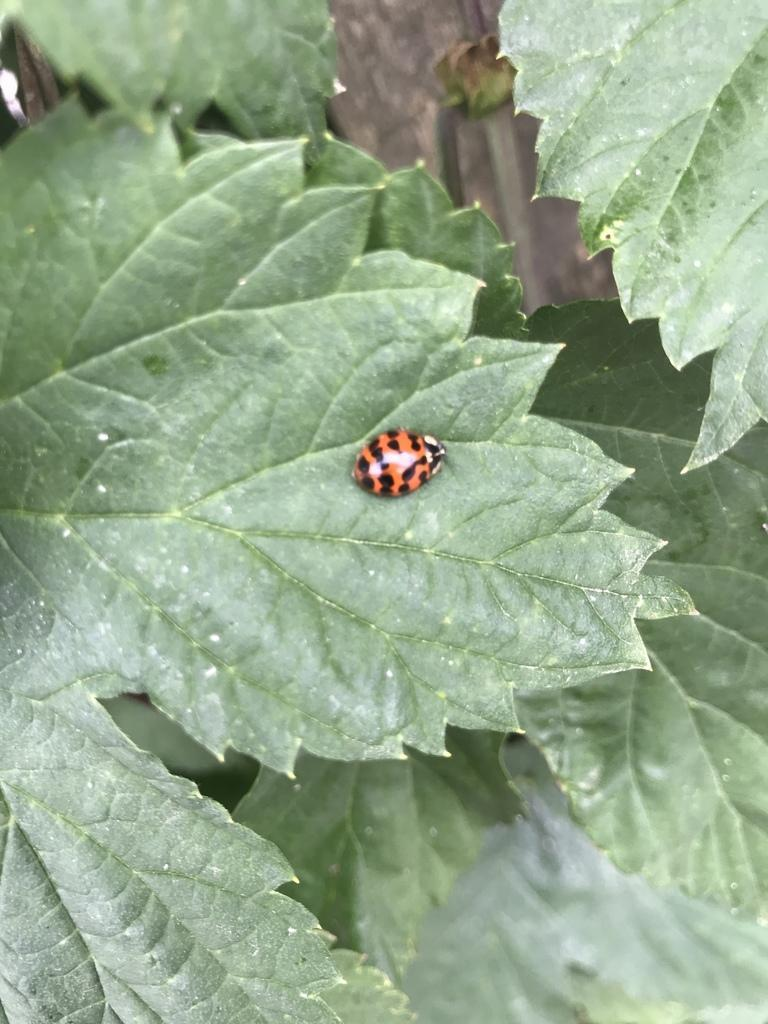ladybug: (351, 426, 454, 504)
